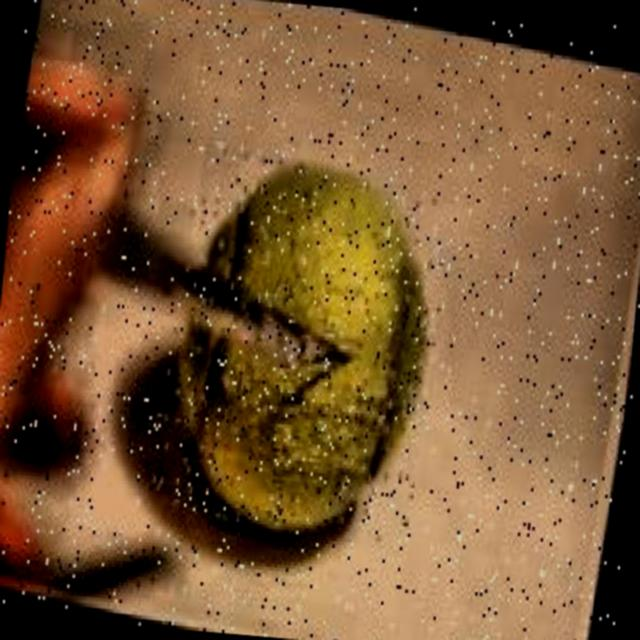tennis-ball: (143, 134, 466, 560)
